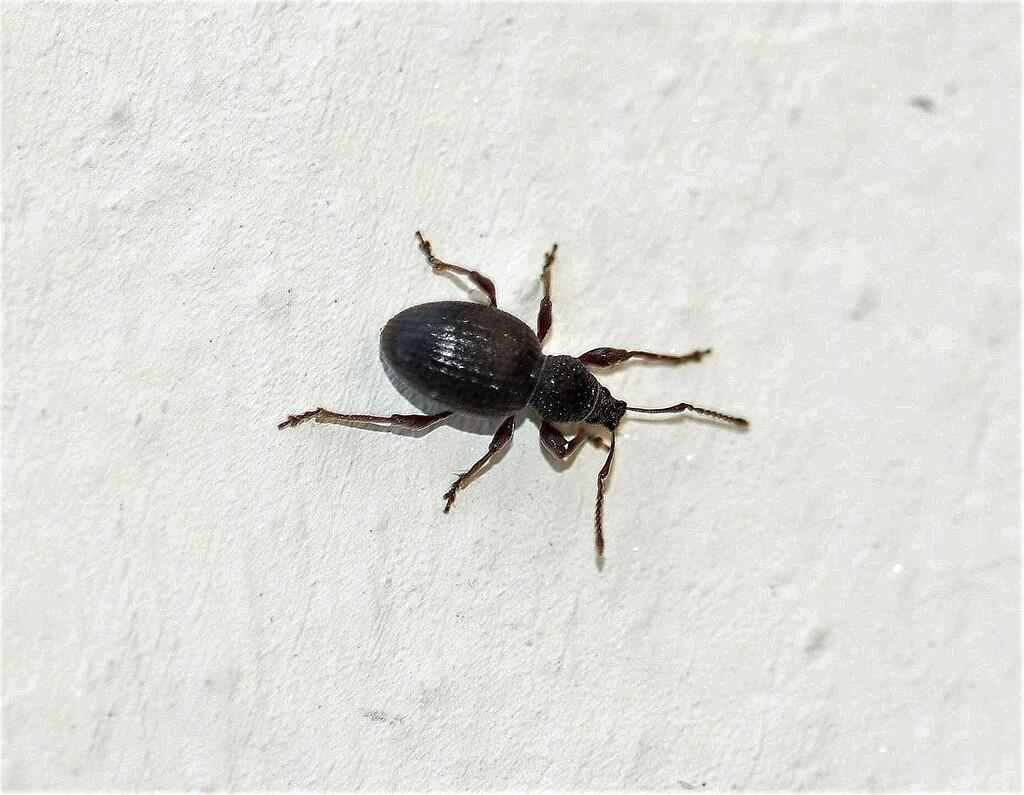weevils: (211, 140, 816, 618)
